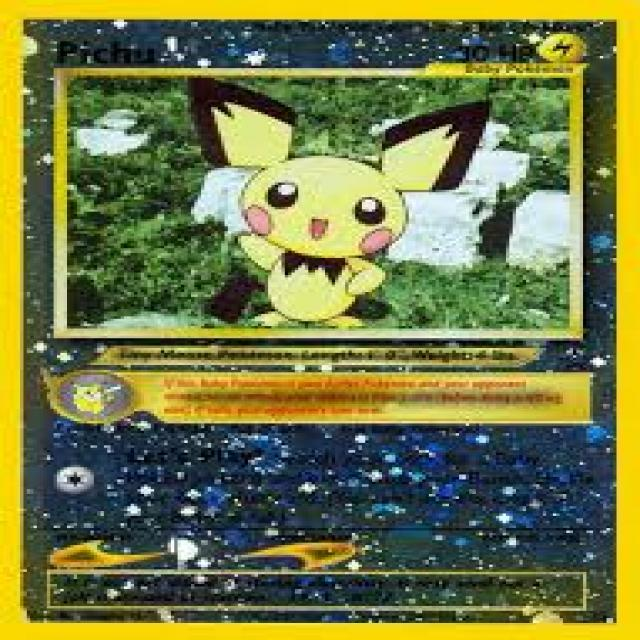pichu: (190, 66, 503, 329)
